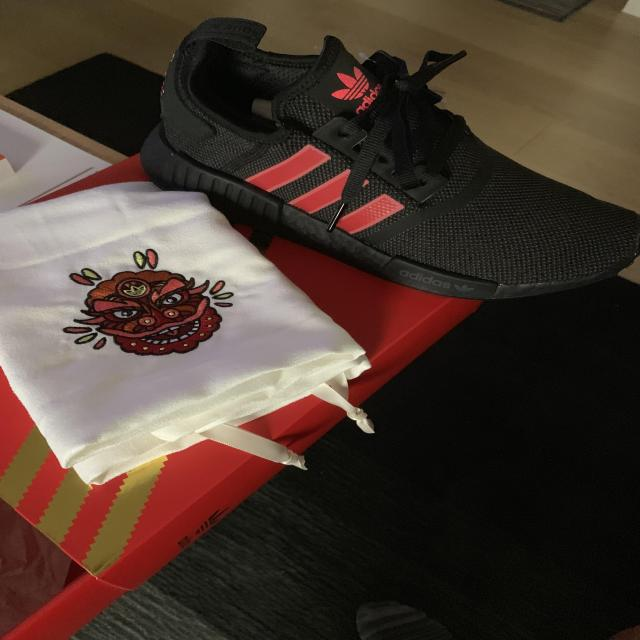shoe: (138, 9, 640, 310)
